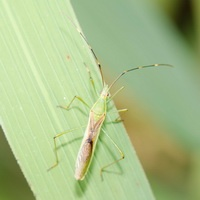insect: (57, 64, 172, 179)
